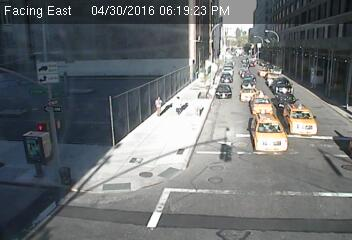neg: (193, 176, 229, 225), (212, 122, 245, 166), (31, 120, 62, 161), (294, 120, 324, 160), (230, 57, 259, 95), (244, 172, 271, 208), (294, 65, 320, 99), (97, 85, 121, 117), (98, 184, 122, 216), (72, 47, 95, 78), (154, 163, 176, 193), (131, 37, 152, 64), (202, 73, 221, 99), (68, 164, 87, 188)
pos: (145, 93, 166, 120), (173, 90, 191, 115)
